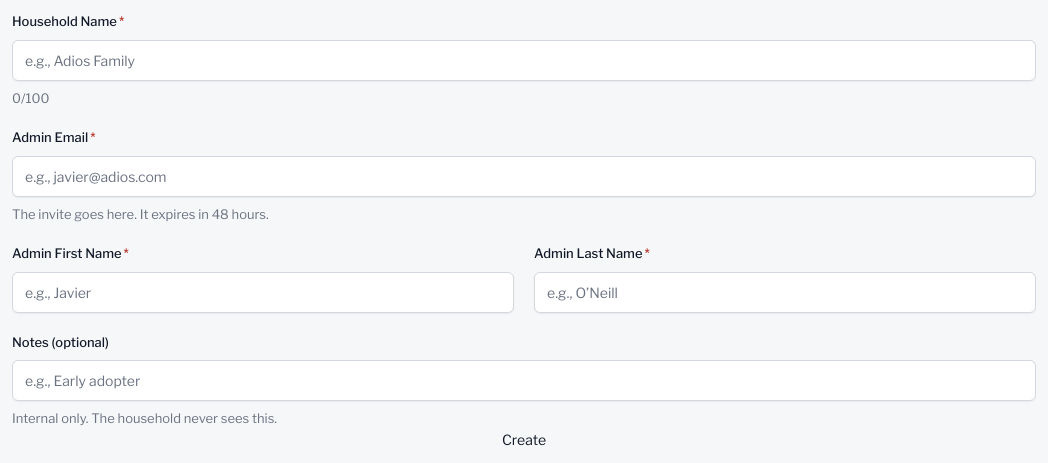
CreateHouseholdForm › shows character count for household name
Type "Test" into the field labelled "Household Name*" at (524, 60), box [12, 40, 1036, 80]
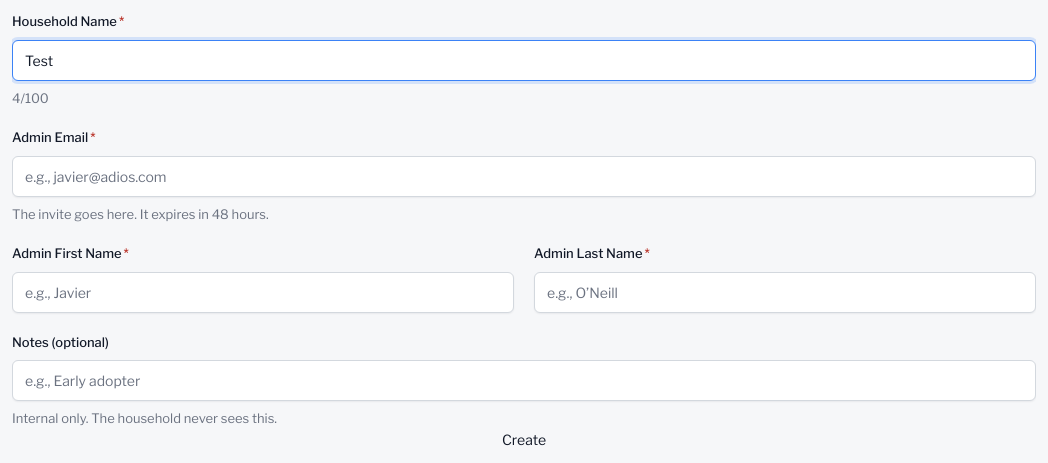
Expected: the text "4/100" is shown, [12, 90, 49, 106]
